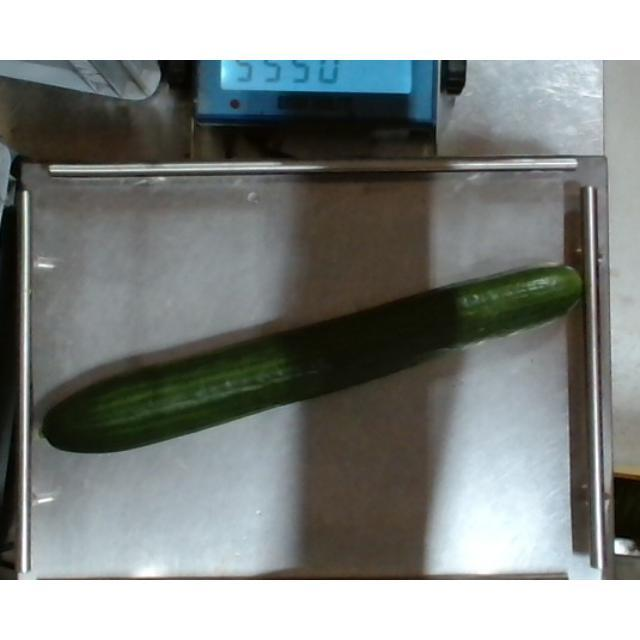cucumber: (41, 262, 586, 460)
